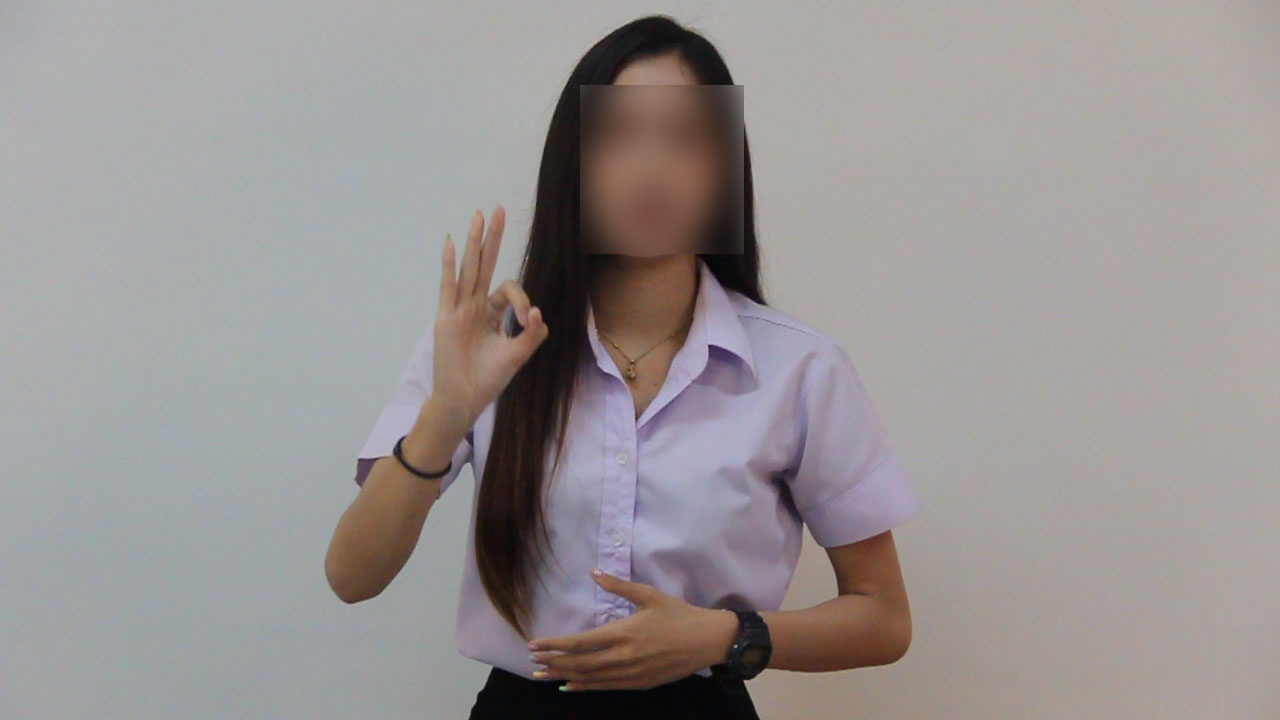for: (397, 188, 569, 428)
